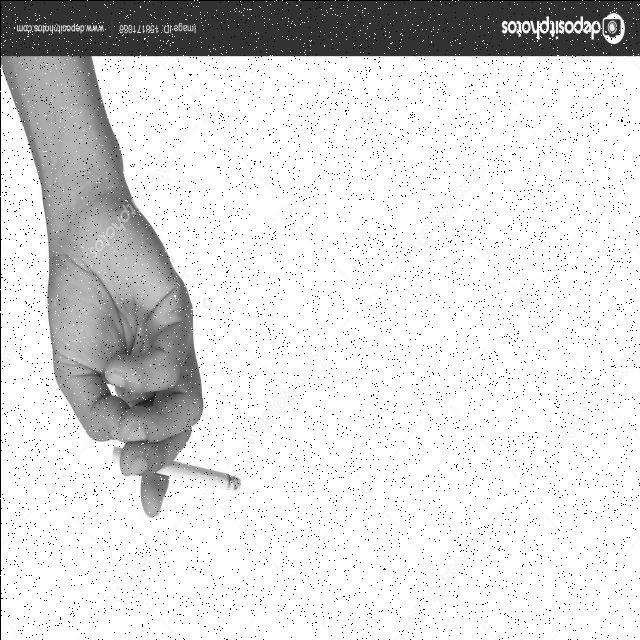cigarette: (157, 456, 255, 500)
